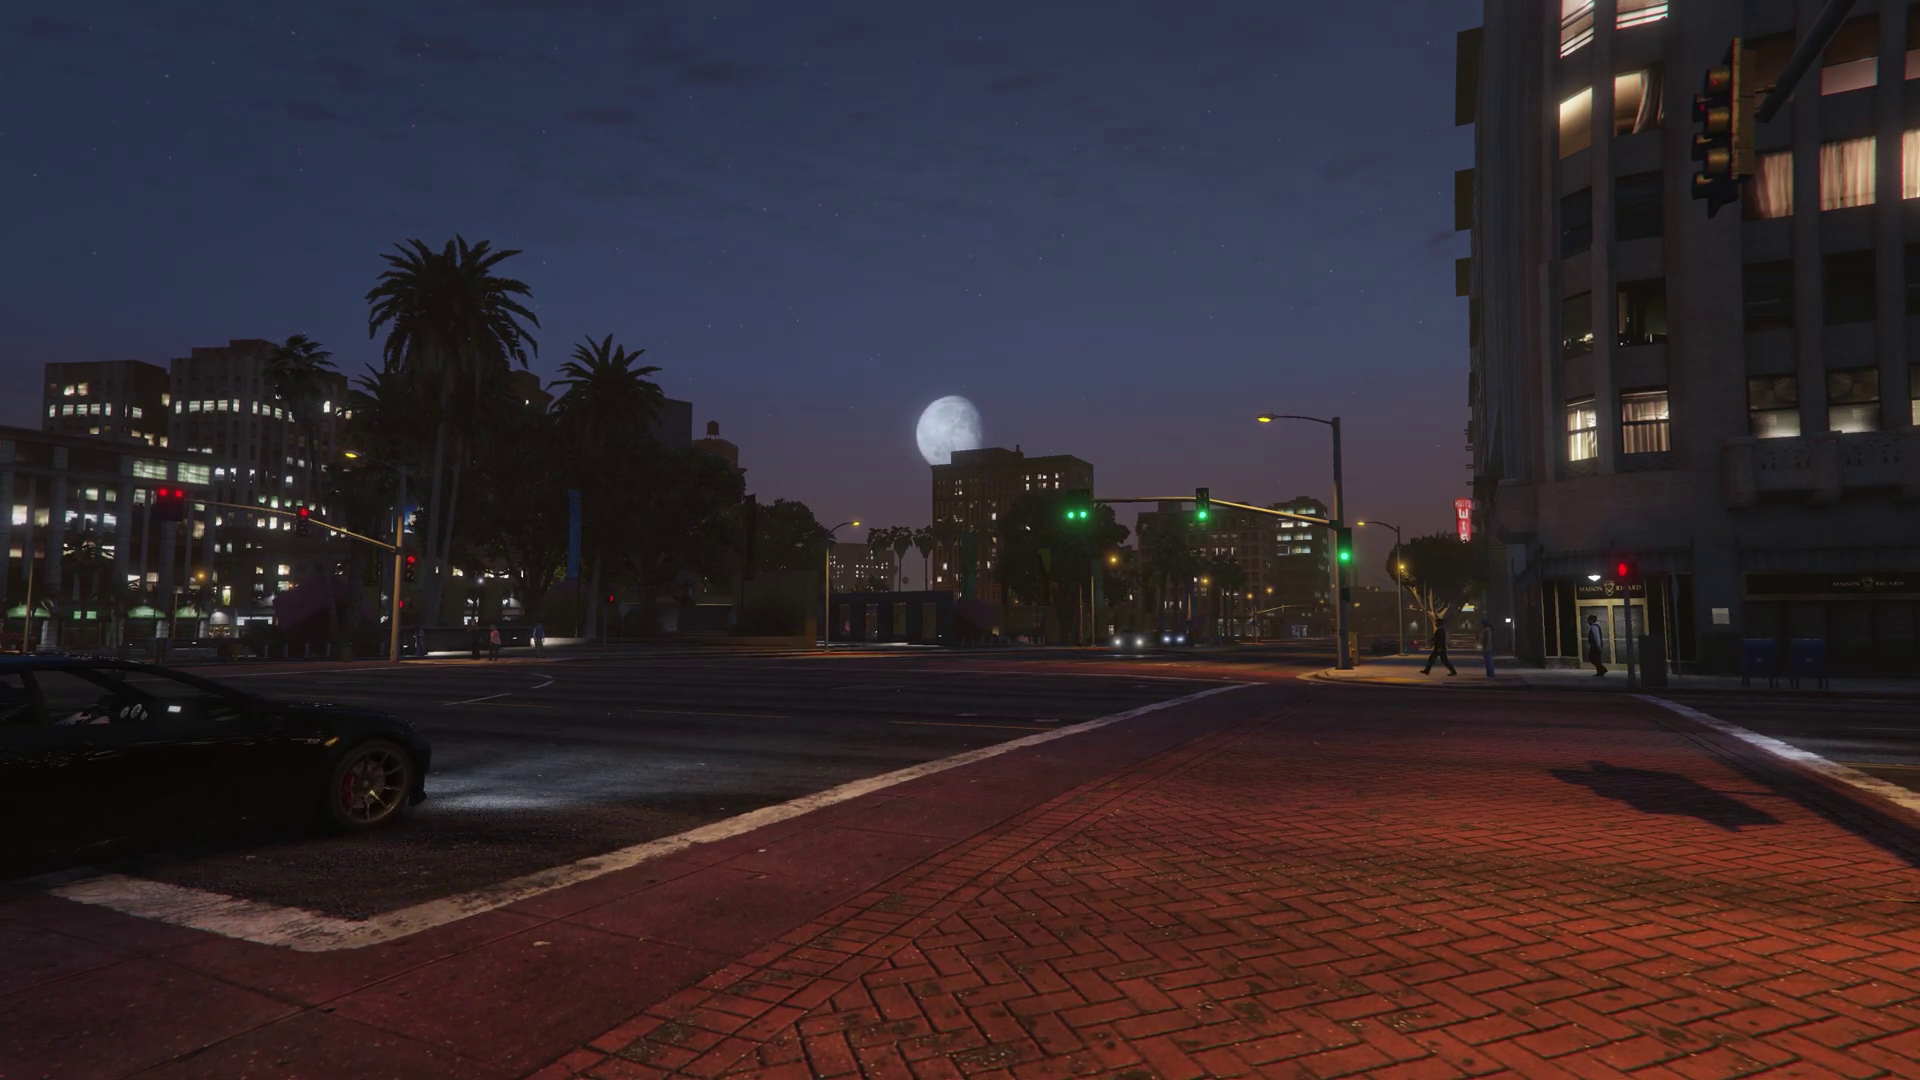car: (1, 656, 431, 897), (1110, 629, 1144, 653), (1163, 631, 1195, 650)
person: (1421, 618, 1457, 678), (1584, 615, 1608, 677), (1479, 619, 1497, 679), (487, 624, 500, 662), (533, 622, 545, 657)
traffic light: (157, 485, 184, 522), (1066, 489, 1090, 527), (1336, 528, 1353, 564), (1192, 488, 1209, 524), (1613, 560, 1637, 585), (293, 505, 308, 534), (403, 553, 415, 582), (395, 597, 410, 611)
